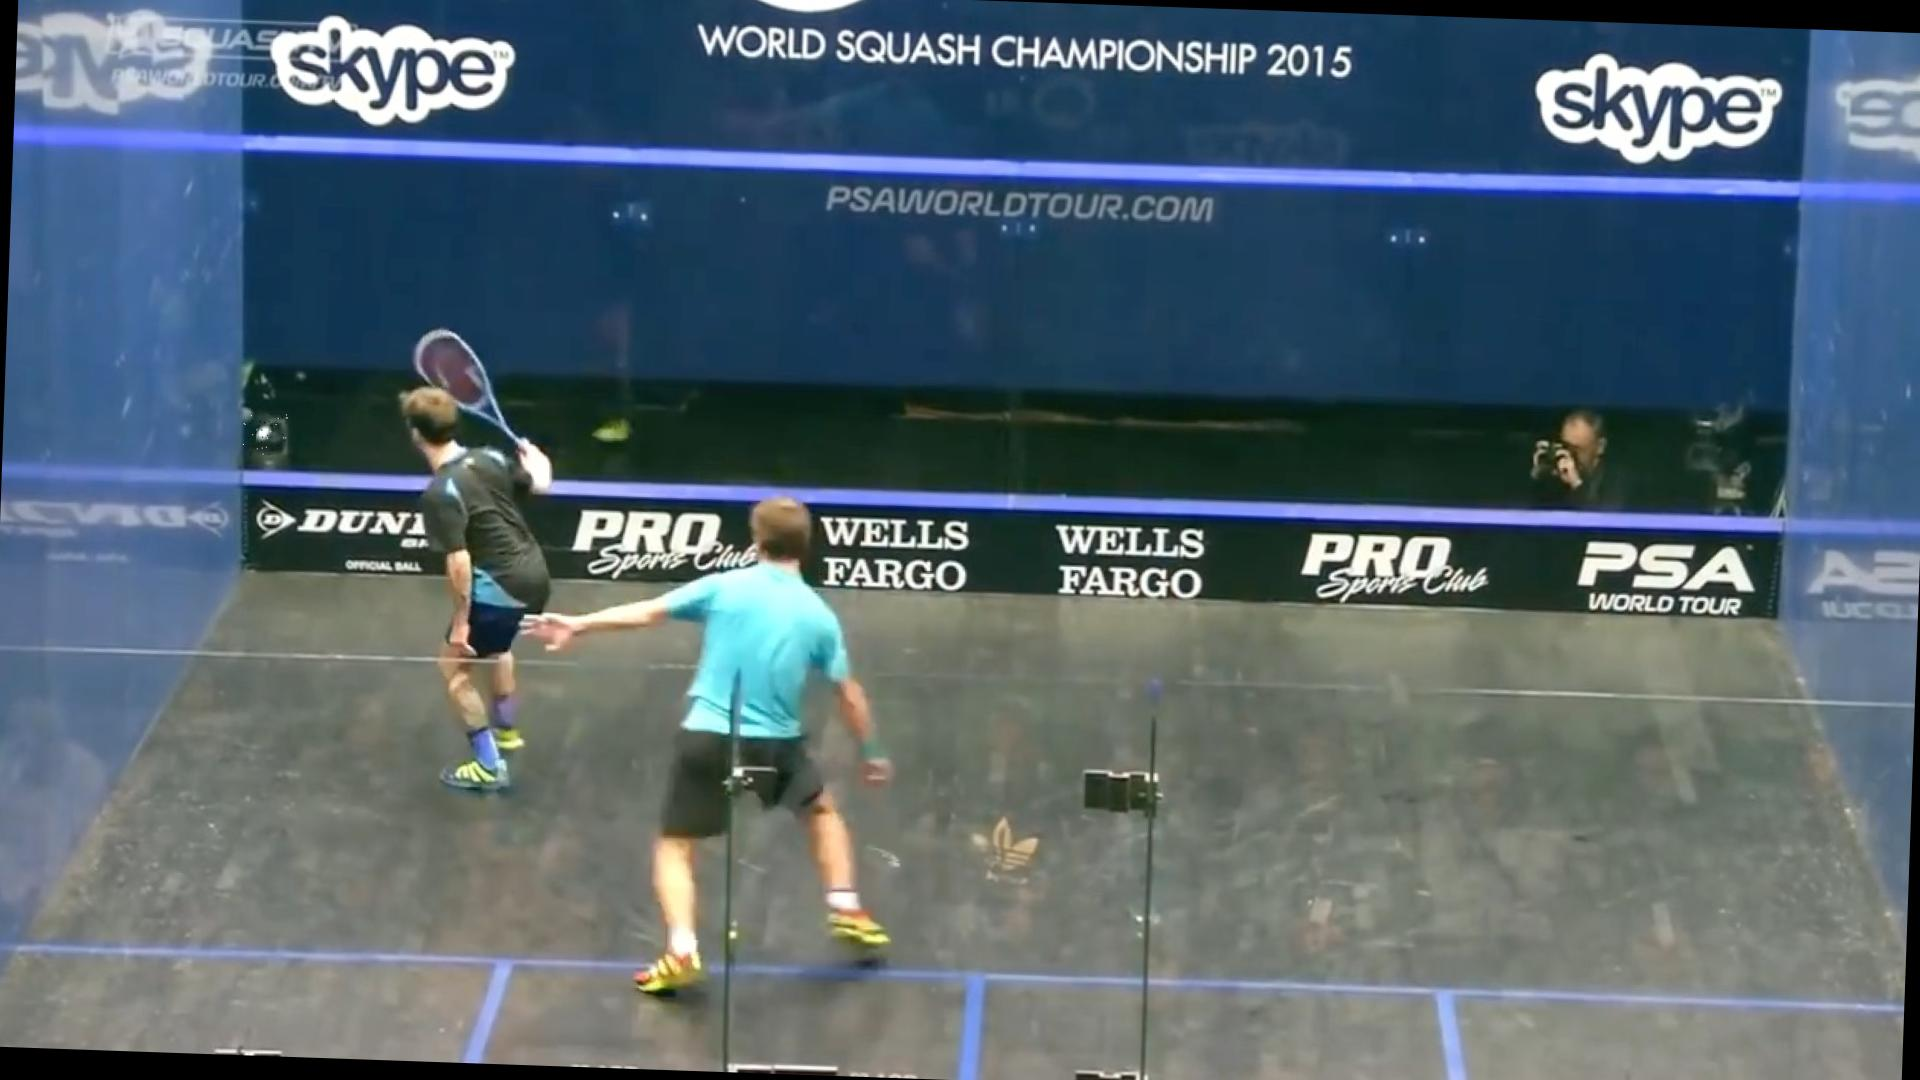Squash-Ball: (243, 413, 290, 456)
